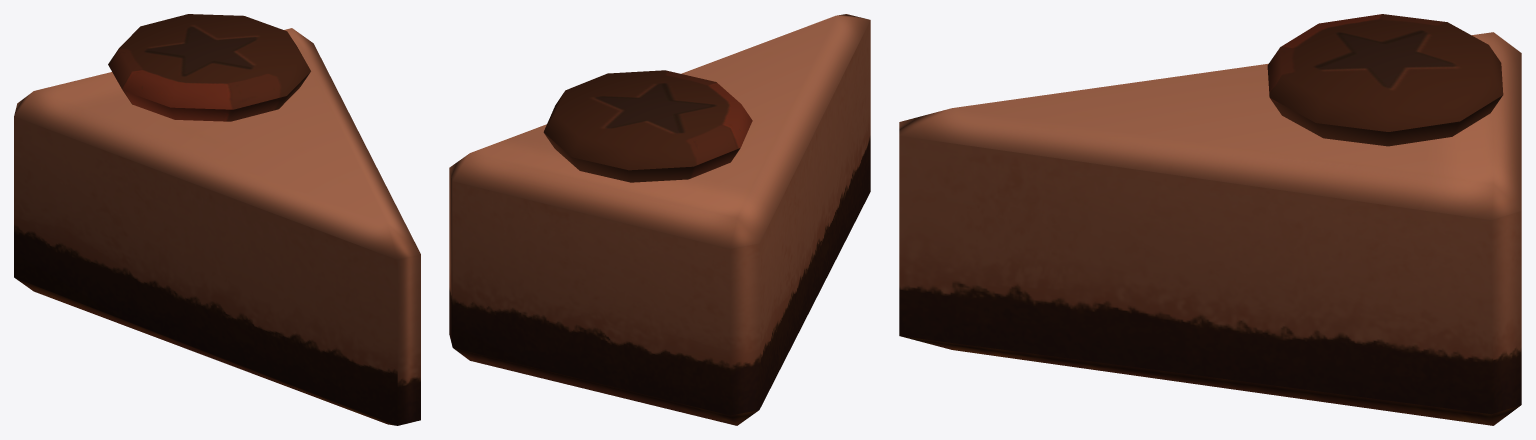
File: Chocolate_Cheesecake_Slice.fbx
3 views of the same model, side by side, from view 1: azimuth 30°, elevation 25°; view 2: azimuth 150°, elevation 25°; view 3: azimuth 270°, elevation 25° (orthographic). The views are drawn at different scales.
Parts seen in each view (by area): view 1: Chocolate_Cheesecake_Slice; view 2: Chocolate_Cheesecake_Slice; view 3: Chocolate_Cheesecake_Slice.
Part boxes in pixels (x1,y1,x2,y2): Chocolate_Cheesecake_Slice: (14, 14, 420, 425); Chocolate_Cheesecake_Slice: (449, 14, 870, 425); Chocolate_Cheesecake_Slice: (899, 14, 1521, 425).
Bounding box in the file's own units: 26.02 × 20.17 × 38.81.
